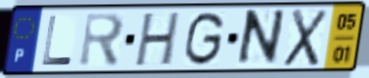G: (182, 10, 227, 68)
H: (132, 10, 183, 69)
L: (40, 14, 75, 67)
N: (233, 7, 288, 70)
R: (77, 11, 127, 70)
X: (281, 7, 331, 69)
